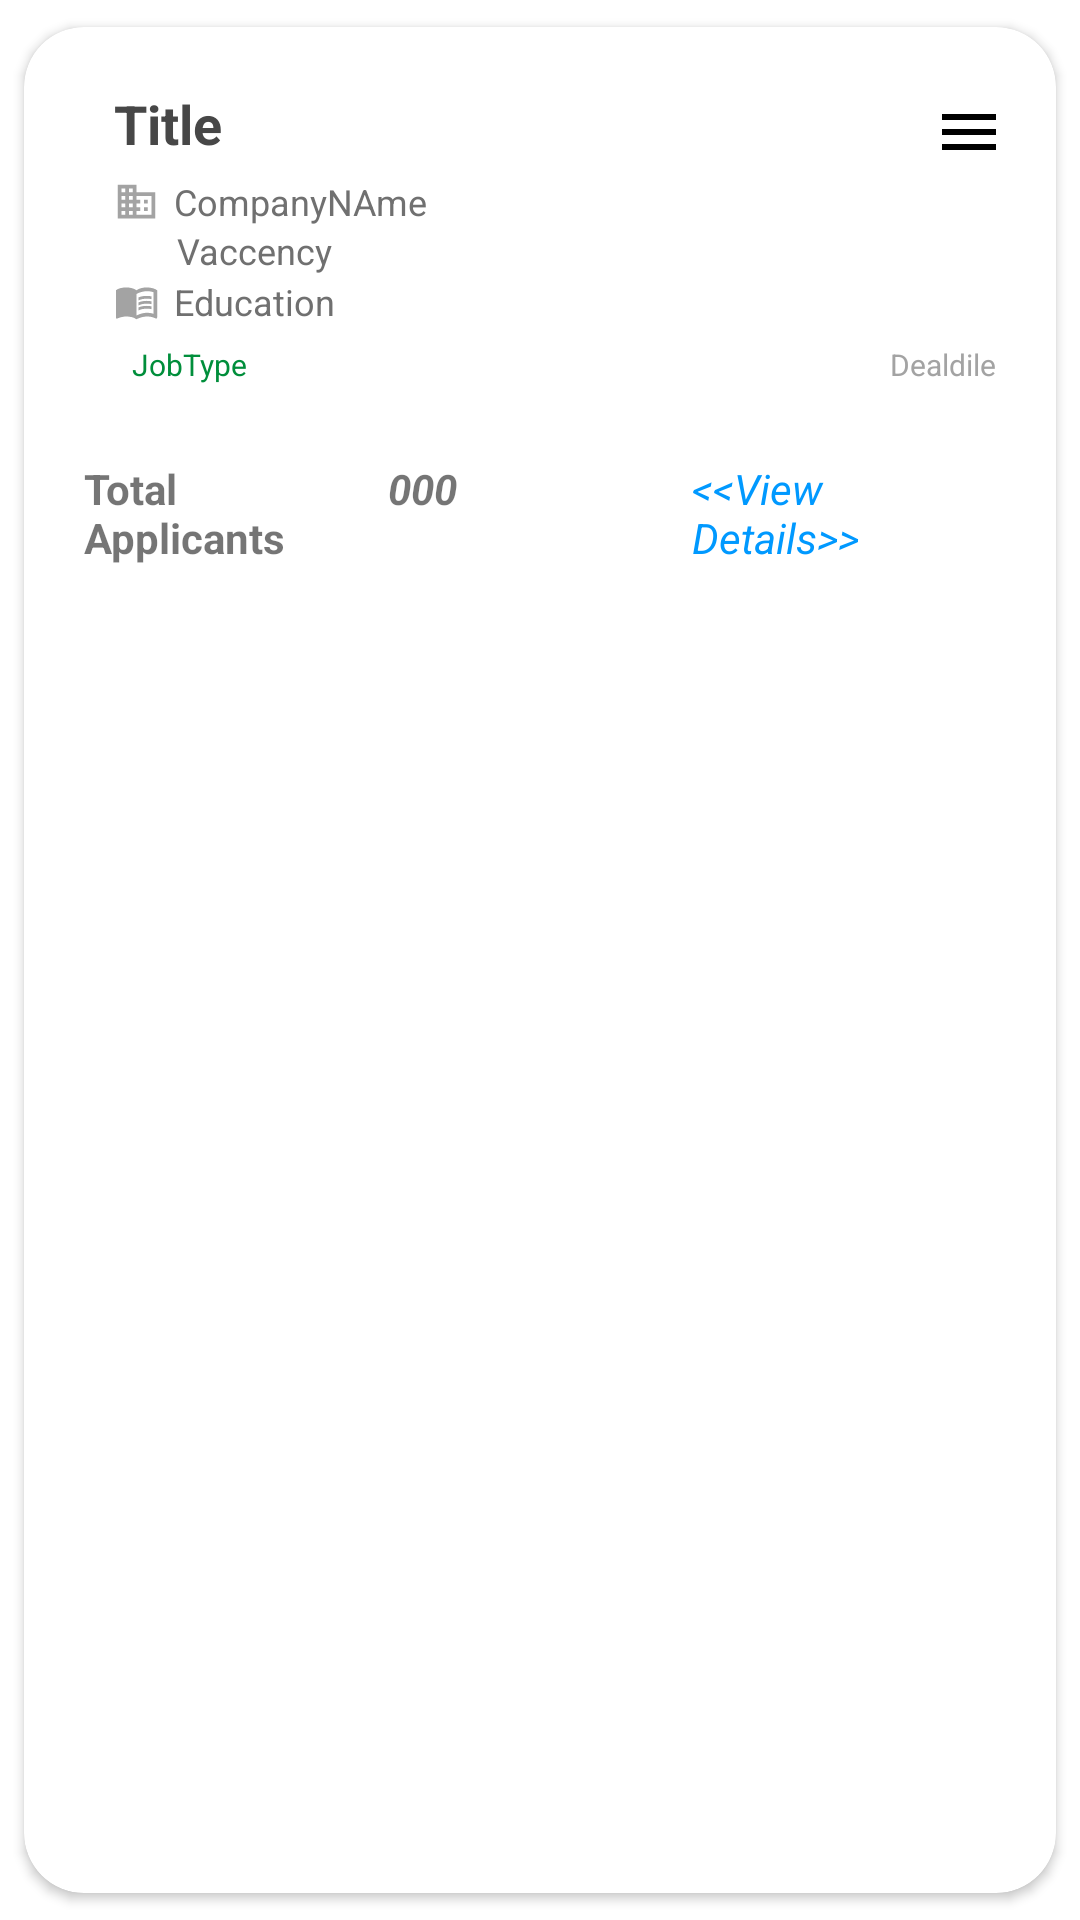

Named icons in this screenshot (1080 x 1920) and their bounding boxes, detection(x1, y1, x2, y2):
book: detection(116, 287, 157, 319)
business: detection(118, 185, 155, 219)
menu: detection(942, 114, 996, 150)
